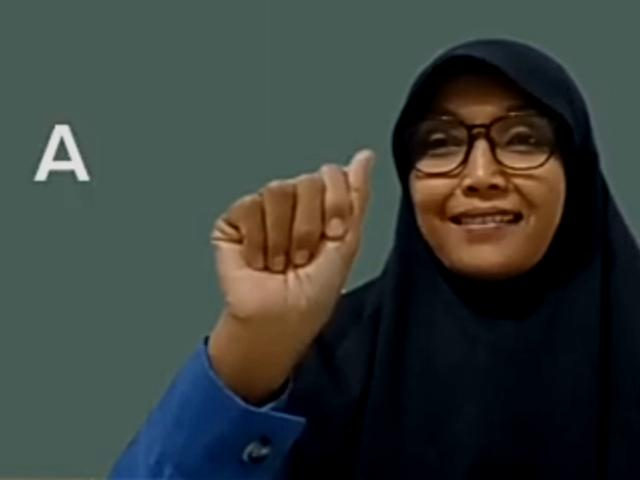A: (212, 148, 376, 334)
